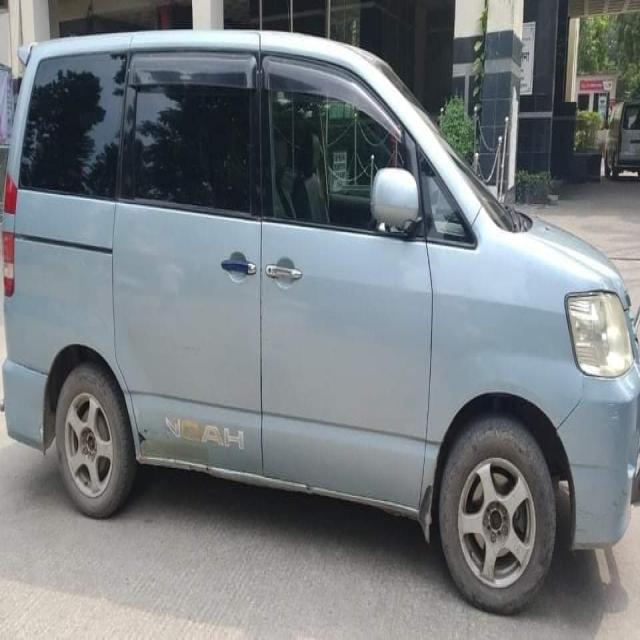white: (4, 10, 488, 458)
